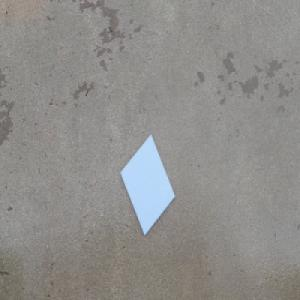PaintChip: (119, 133, 176, 237)
